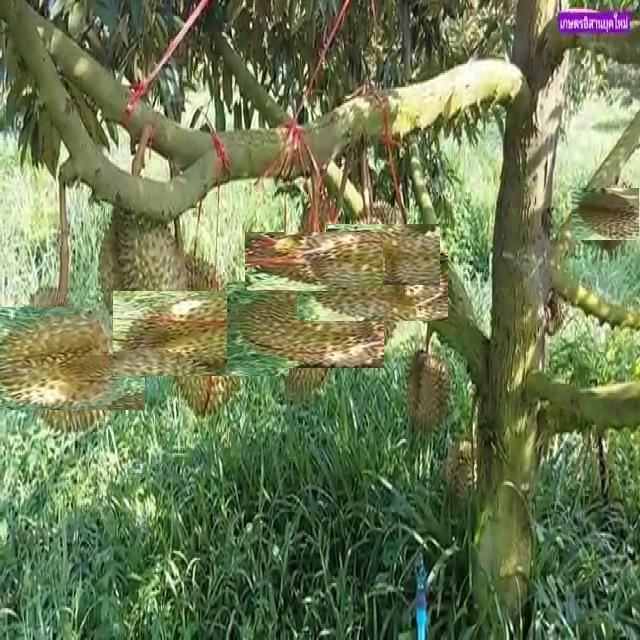durian: (1, 294, 132, 424), (136, 268, 266, 398), (92, 186, 191, 355), (244, 264, 367, 386), (317, 232, 427, 342), (264, 212, 364, 310), (339, 210, 427, 298), (404, 345, 453, 435), (579, 180, 640, 248)
